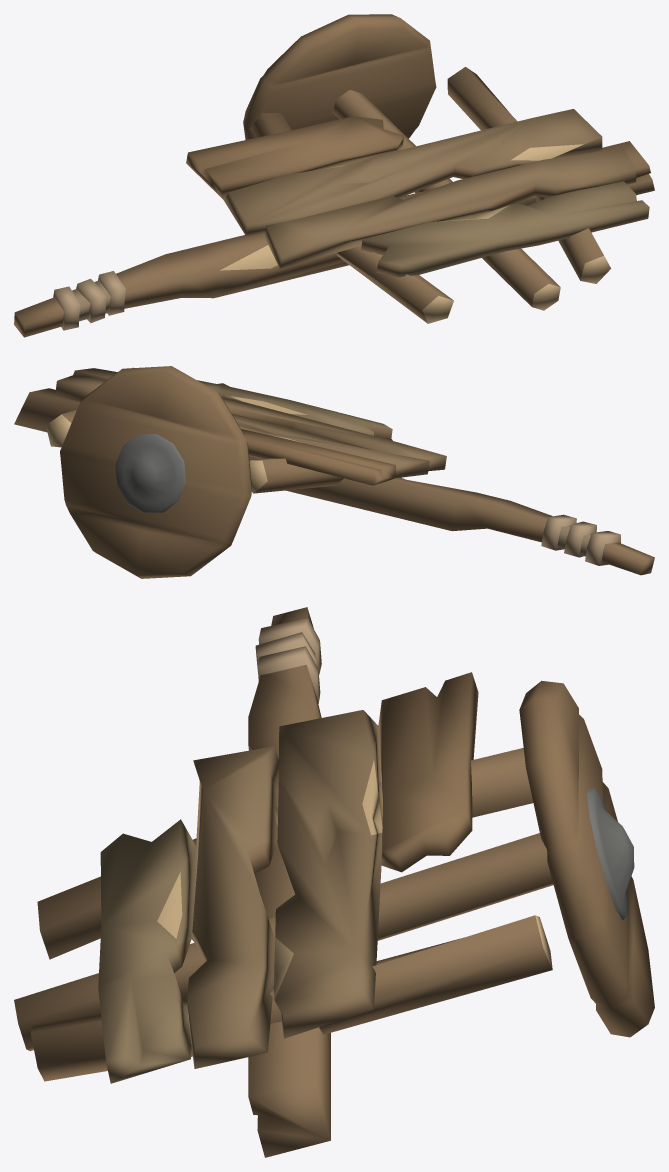
Rendered from rpgpp_av_wagon_01b.fbx.
The picture shows the model from 3 angles, top to bottom: view 1: azimuth 30°, elevation 25°; view 2: azimuth 150°, elevation 25°; view 3: azimuth 270°, elevation 25°; orthographic projection. The views are drawn at different scales.
Parts seen in each view (by area): view 1: rpgpp_av_wagon_01b; view 2: rpgpp_av_wagon_01b; view 3: rpgpp_av_wagon_01b.
Boxes of the visible parts, box(x1,y1,x2,y2) form: rpgpp_av_wagon_01b: box(14, 14, 654, 337); rpgpp_av_wagon_01b: box(14, 366, 654, 578); rpgpp_av_wagon_01b: box(14, 607, 654, 1157).
Size of the model in its own units: 3.66 by 1.07 by 1.93.
